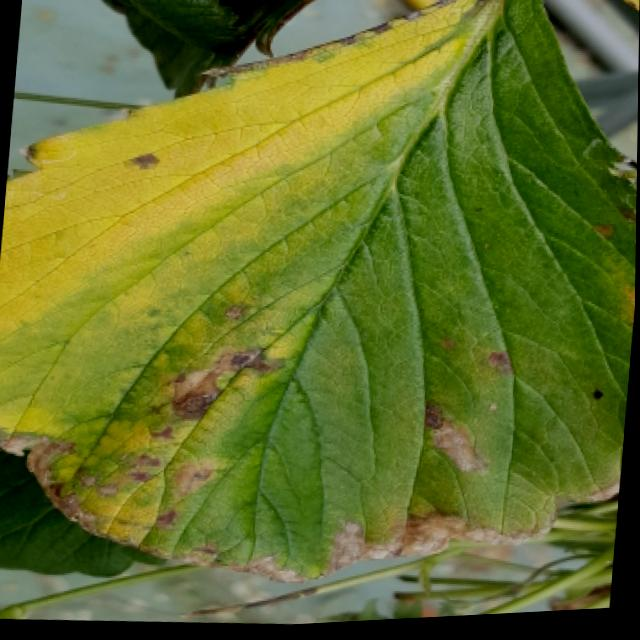Angular Leafspot: (0, 289, 624, 590), (119, 0, 471, 177), (591, 203, 637, 331)
